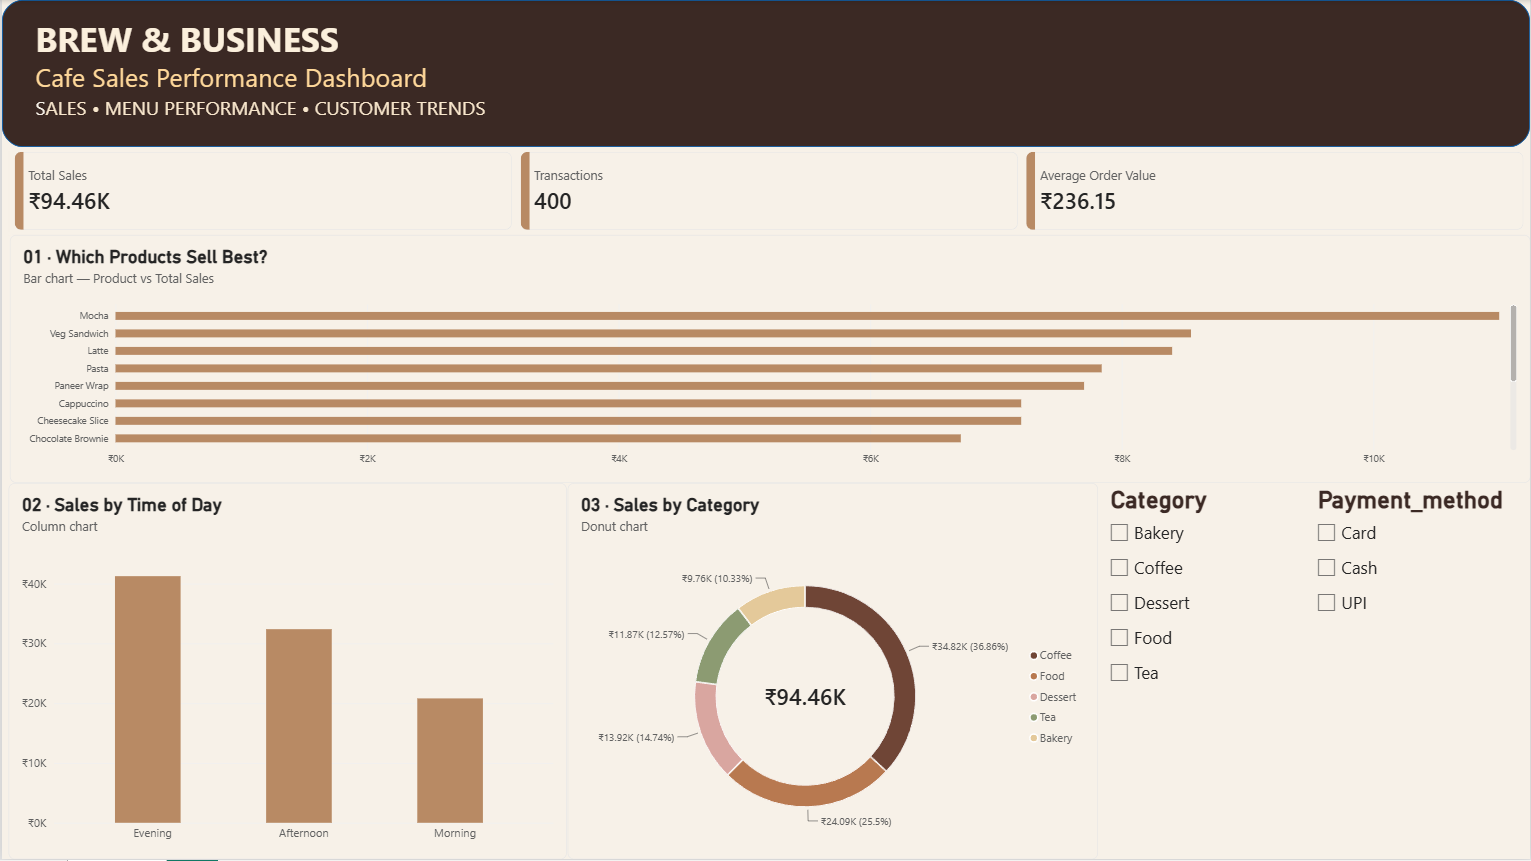

The dashboard page shown, as its layout file describes it:
{"tool":"powerbi","page":{"name":"Page 1","canvas":[1920,1080],"ordinal":0},"visuals":[{"type":"textbox","box":[10,0,280,280],"z":0},{"type":"shape","box":[0,0,1920.8,184.8],"z":1000},{"type":"textbox","box":[0,0,1420.5,255.7],"z":2000},{"type":"cardVisual","fields":{"Data":["cafe_sales.Total Sales","cafe_sales.Transactions","cafe_sales.Average Order Value"]},"box":[9.3,184.8,1911.5,110.1],"z":3000},{"type":"clusteredBarChart","title":"01 · Which Products Sell Best?","fields":{"Category":["cafe_sales.product"],"Y":["cafe_sales.Total Sales"]},"box":[9.3,294.9,1911.5,311.7],"z":4000},{"type":"clusteredColumnChart","title":"02 · Sales by Time of Day","fields":{"Category":["cafe_sales.time_of_day"],"Y":["cafe_sales.Total Sales"]},"box":[8.9,607.4,702.1,473.4],"z":5000},{"type":"donutChart","title":"03 · Sales by Category","fields":{"Category":["cafe_sales.category"],"Y":["cafe_sales.Total Sales"]},"box":[711,607.4,666.3,473.4],"z":6000},{"type":"slicer","fields":{"Values":["cafe_sales.category"]},"box":[1377.3,607.4,260.8,473.4],"z":6001},{"type":"slicer","fields":{"Values":["cafe_sales.payment_method"]},"box":[1638.1,607.4,282.3,473.4],"z":6002}]}

Visuals, with their boxes in screenshot pixels (x1, y1, x2, y2), scaled from the page's 1920x1080 canvas onto the 1531x861 screenshot:
textbox: <bbox>8, 0, 231, 223</bbox>
shape: <bbox>0, 0, 1530, 147</bbox>
textbox: <bbox>0, 0, 1133, 204</bbox>
cardVisual - cafe_sales.Total Sales x cafe_sales.Transactions: <bbox>7, 147, 1530, 235</bbox>
"01 · Which Products Sell Best?" clusteredBarChart: <bbox>7, 235, 1530, 484</bbox>
"02 · Sales by Time of Day" clusteredColumnChart: <bbox>7, 484, 567, 860</bbox>
"03 · Sales by Category" donutChart: <bbox>567, 484, 1098, 860</bbox>
slicer - cafe_sales.category: <bbox>1098, 484, 1306, 860</bbox>
slicer - cafe_sales.payment_method: <bbox>1306, 484, 1530, 860</bbox>
